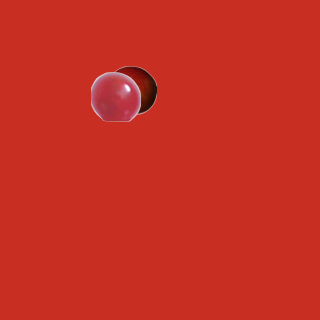Apple Braeburn: (106, 65, 156, 115)
Redcurrant: (90, 71, 140, 121)
